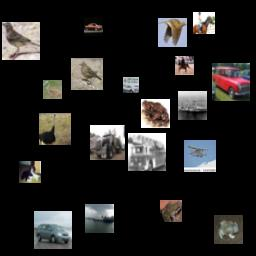airplane: (184, 140, 216, 172)
automobile: (34, 211, 72, 249), (212, 63, 250, 101), (84, 17, 103, 36), (123, 77, 139, 93)
bird: (2, 22, 40, 60), (71, 58, 103, 90), (39, 113, 71, 145), (158, 18, 187, 47)
deer: (43, 80, 62, 99)
dog: (19, 161, 41, 183)
frog: (141, 99, 170, 128), (214, 215, 243, 244), (160, 200, 182, 222)
ship: (85, 204, 114, 233), (178, 91, 207, 120)
truck: (128, 133, 166, 171), (90, 125, 125, 160)
